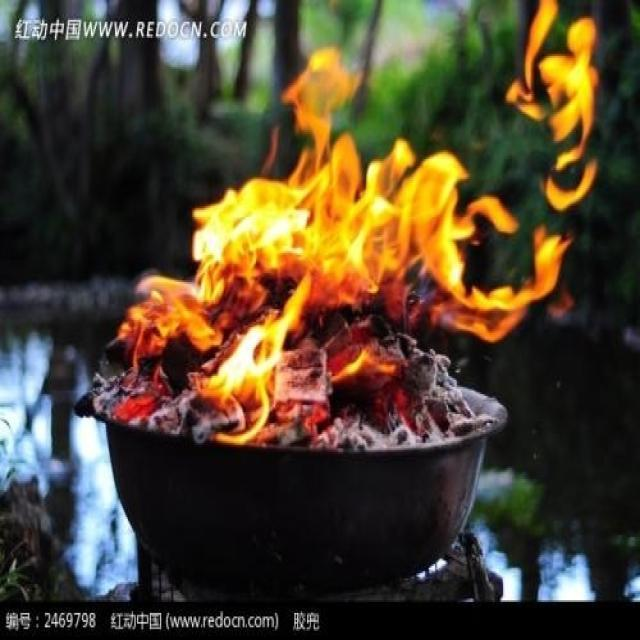Fire: (104, 2, 600, 450)
